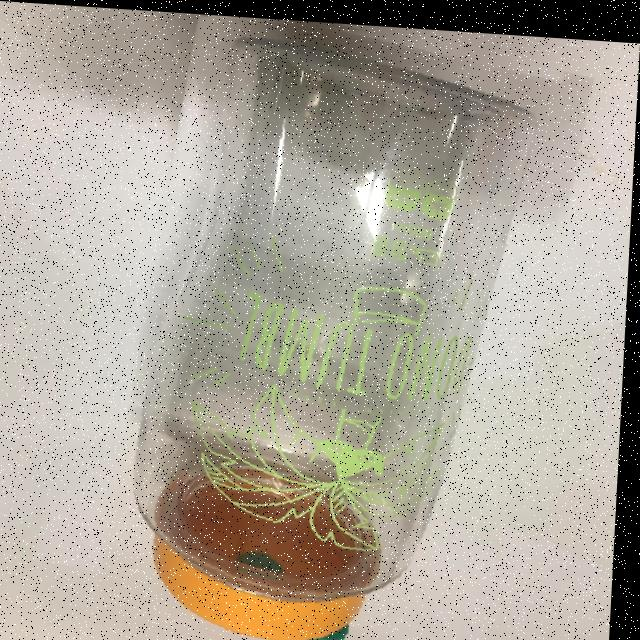litter: (117, 7, 575, 640), (163, 541, 435, 640)
